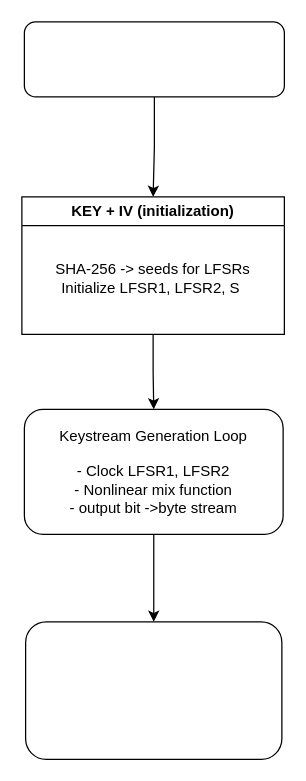
The diagram is 306 pixels wide and 781 high, and some of its shapes have lost their labels. Each missing label, with the centre of its shape:
Plaintext: point 153,59
XOR plaintext ⊕ keystream -> ciphertext: point 153,690
